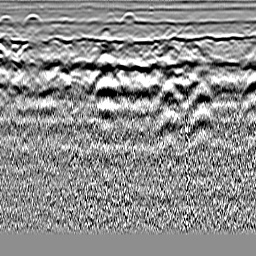cavity: (119, 9, 138, 25)
